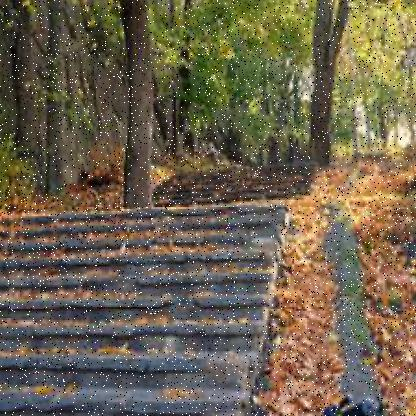stair_up: (4, 207, 272, 405)
